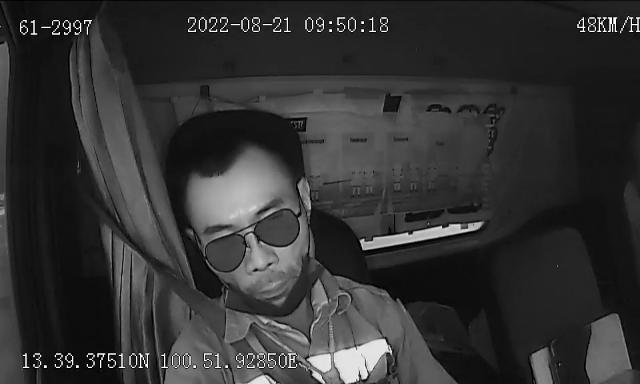SafeDriving: (416, 96, 459, 120)
Seatbelt: (108, 216, 322, 384)
